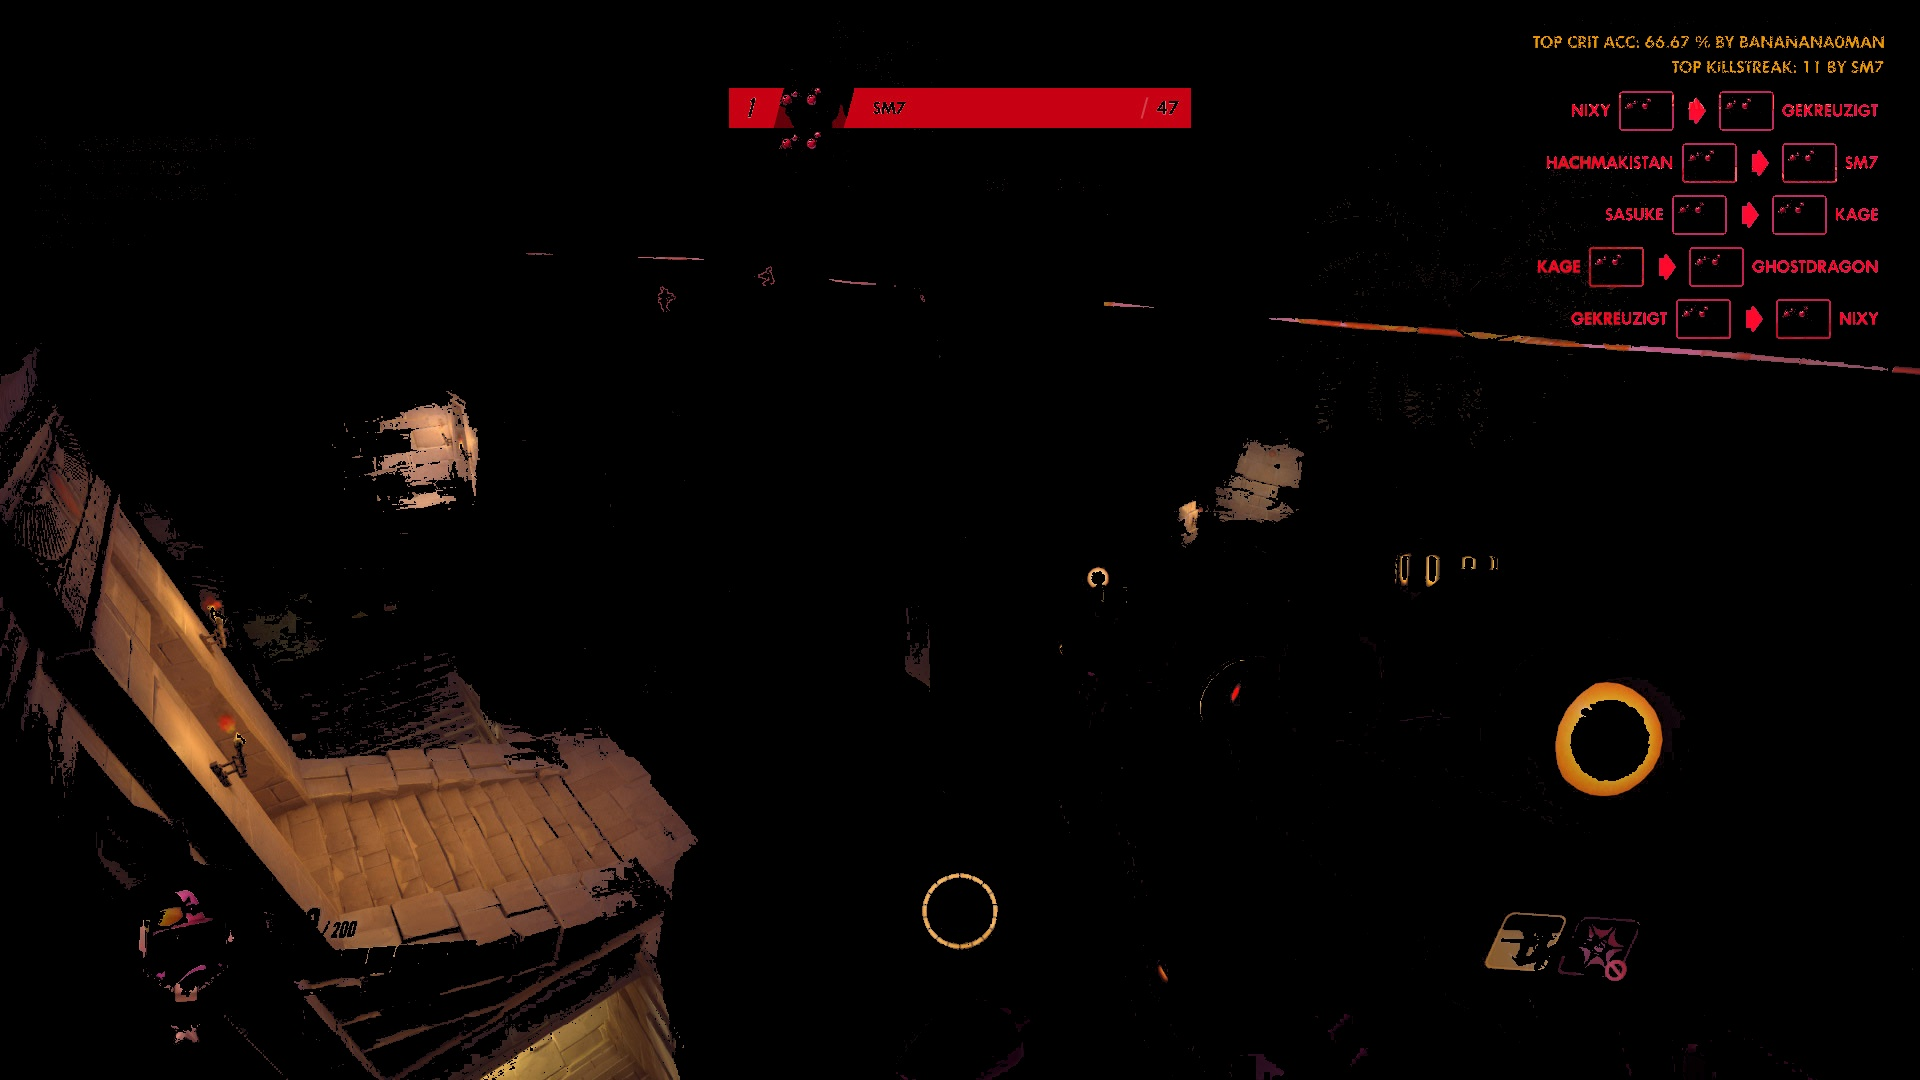widowmaker: (658, 287, 678, 316), (758, 262, 777, 287)
